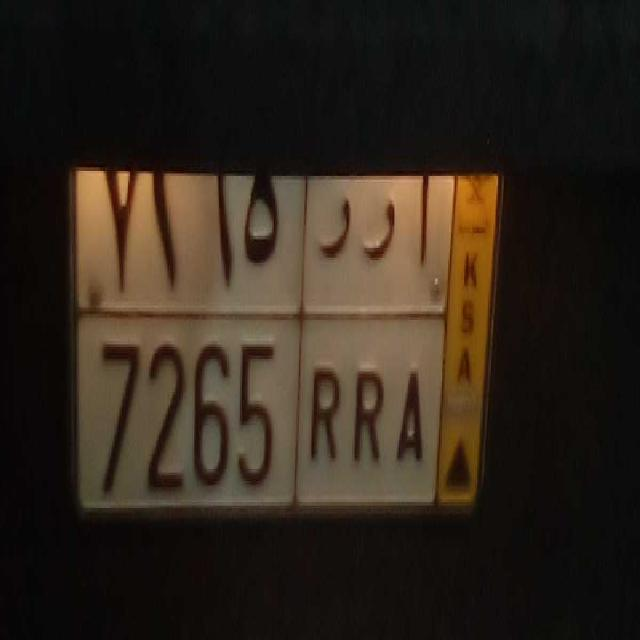license_plate: (77, 305, 441, 507)
